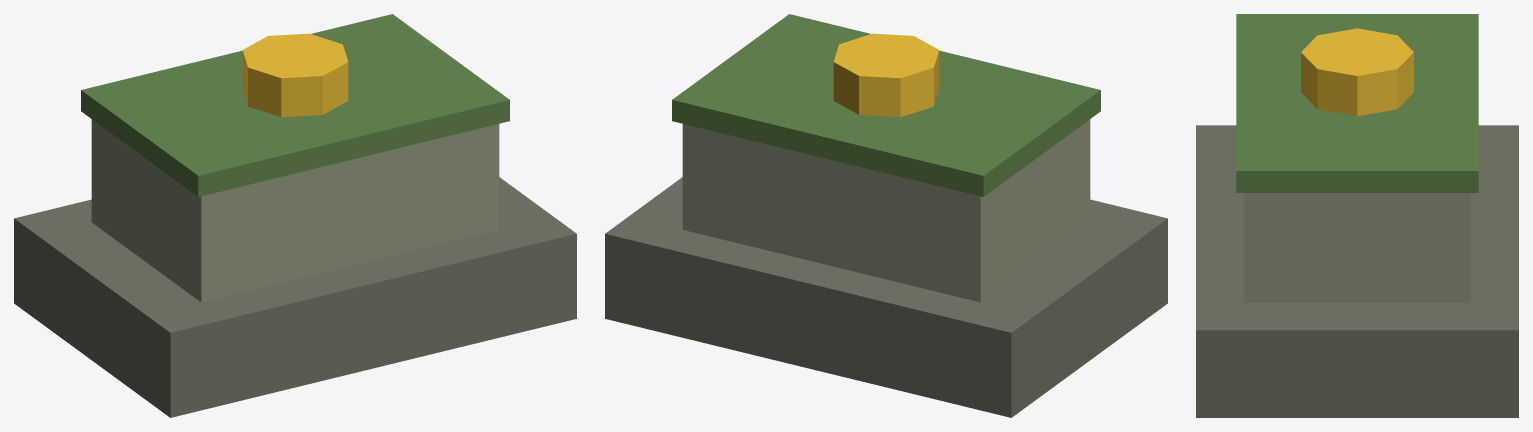
File: altar.fbx
The picture shows the model from 3 angles, left to right: view 1: azimuth 30°, elevation 25°; view 2: azimuth 150°, elevation 25°; view 3: azimuth 270°, elevation 25°; orthographic projection. The views are drawn at different scales.
Parts seen in each view (by area): view 1: altar; view 2: altar; view 3: altar.
Boxes of the visible parts, <box> form: altar: <box>14,14,576,417</box>; altar: <box>605,14,1167,417</box>; altar: <box>1196,14,1518,417</box>.
Bounding box in the file's own units: 3 × 1.8 × 2.
